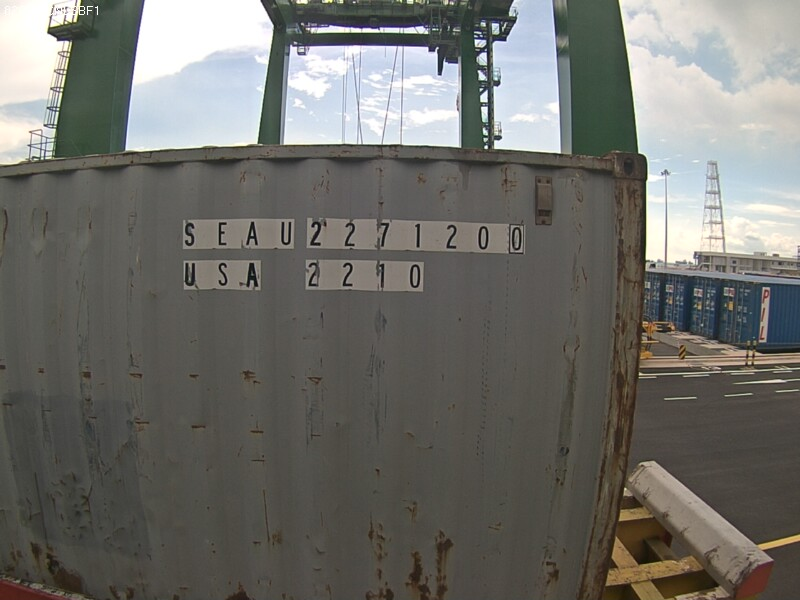container_no_door: (55, 146, 651, 589)
